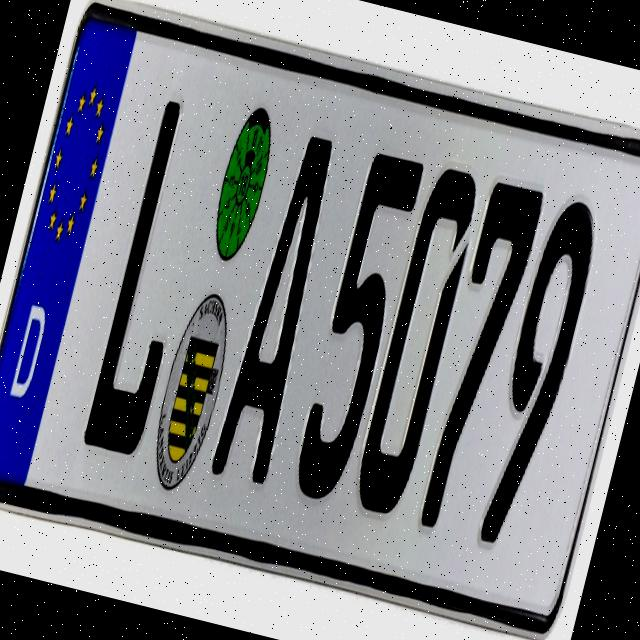Allemagne: (0, 14, 138, 486)
EU: (0, 17, 640, 613)
